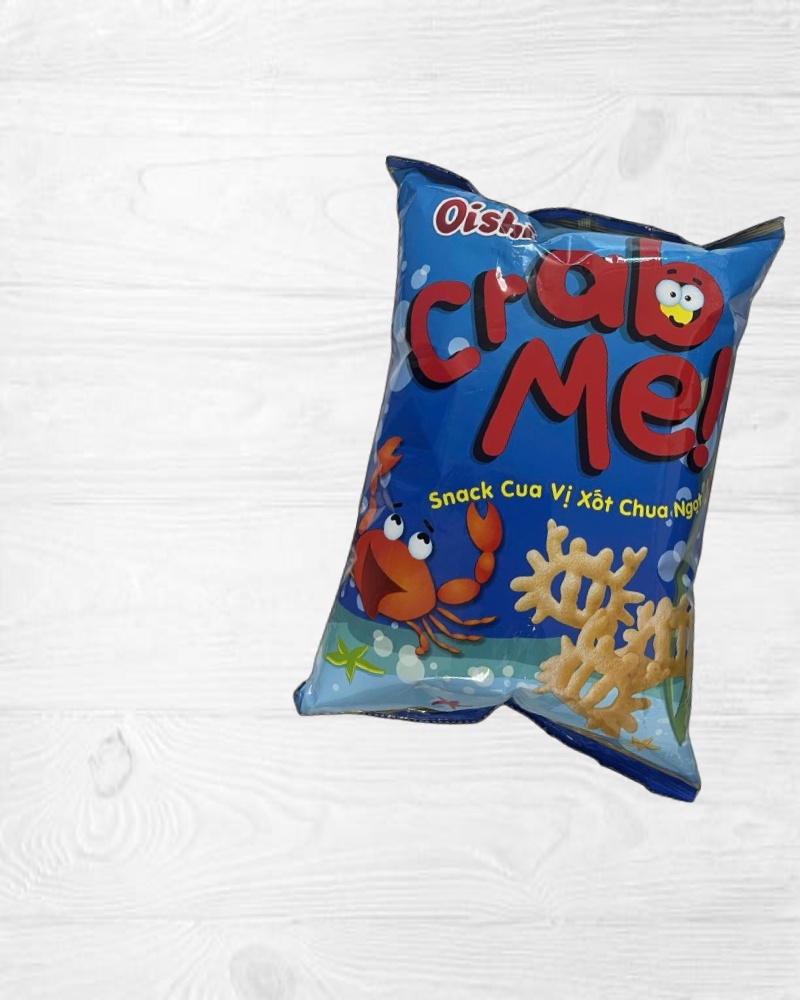Snack cua: (287, 148, 800, 798)
